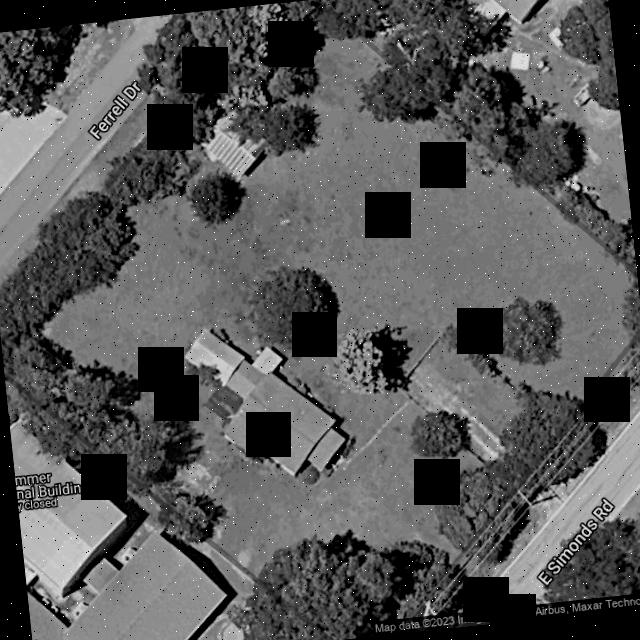Driveway: (405, 367, 532, 486)
Extra Driveway: (531, 479, 579, 531)
Extra Lawn: (50, 94, 154, 215), (467, 514, 534, 605), (601, 384, 640, 444), (0, 234, 34, 283)
House: (186, 330, 345, 474)
Other: (195, 108, 277, 183)
Sidewalk: (342, 401, 409, 469)
